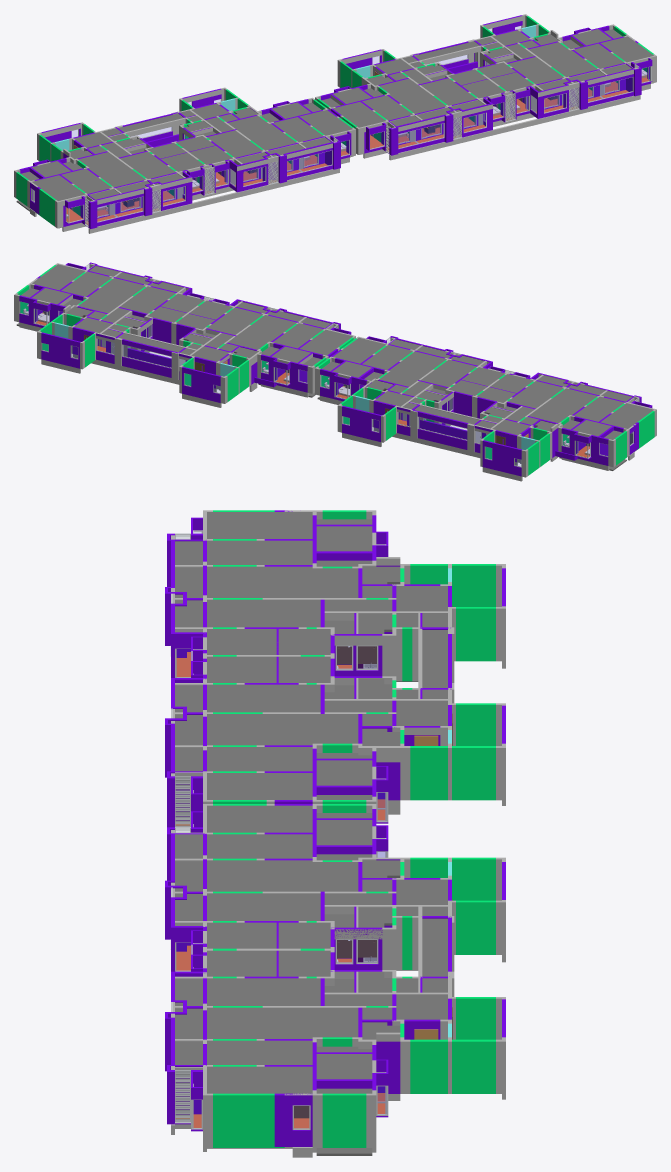
Rendered from standard-floor.meshopt.glb.
3 renders of one model, top to bottom at view 1: azimuth 30°, elevation 25°; view 2: azimuth 150°, elevation 25°; view 3: azimuth 270°, elevation 25°, orthographic. The views are drawn at different scales.
Parts seen in each view (by area): view 1: element_1310233, element_1309652, element_1311939, element_1312119, element_1312037, element_1311857, element_1312061, element_1312053, element_1311913, element_1311921, element_1311865, element_1311929 (+48 smaller); view 2: element_1311857, element_1312037, element_1312119, element_1311939, element_1553364, element_1602113, element_1557701, element_1602064, element_1312053, element_1312061, element_1311921, element_1311913 (+37 smaller); view 3: element_1312119, element_1311857, element_1311939, element_1312037, element_654879, element_1311921, element_1312053, element_1312061, element_1311865, element_1311929, element_1311913, element_1312045 (+33 smaller).
Part boxes in pixels (<box>): element_1310233: <box>389,95,640,160</box>; element_1309652: <box>88,168,339,233</box>; element_1311939: <box>228,115,296,150</box>; element_1312119: <box>528,42,597,76</box>; element_1312037: <box>379,78,446,113</box>; element_1311857: <box>78,152,145,187</box>; element_1312061: <box>477,62,533,91</box>; element_1312053: <box>448,69,505,98</box>; element_1311913: <box>147,143,204,171</box>; element_1311921: <box>176,136,232,164</box>; element_1311865: <box>120,151,175,178</box>; element_1311929: <box>207,130,262,157</box>; element_1311857: <box>529,388,597,423</box>; element_1312037: <box>228,315,296,349</box>; element_1312119: <box>78,278,145,313</box>; element_1311939: <box>379,351,446,386</box>; element_1553364: <box>482,440,521,476</box>; element_1602113: <box>182,367,221,402</box>; element_1557701: <box>342,406,381,441</box>; element_1602064: <box>41,332,80,368</box>; element_1312053: <box>176,300,232,329</box>; element_1312061: <box>147,293,204,322</box>; element_1311921: <box>448,367,505,395</box>; element_1311913: <box>477,374,533,402</box>; element_1312119: <box>207,1007,358,1038</box>; element_1311857: <box>207,566,358,597</box>; element_1311939: <box>207,714,358,745</box>; element_1312037: <box>207,860,358,891</box>; element_654879: <box>213,1093,284,1147</box>; element_1311921: <box>207,656,330,682</box>; element_1312053: <box>207,922,330,948</box>; element_1312061: <box>207,950,330,976</box>; element_1311865: <box>207,599,320,627</box>; element_1311929: <box>207,684,320,712</box>; element_1311913: <box>207,629,330,654</box>; element_1312045: <box>207,893,320,920</box>.
Bounding box in the file's own units: 69.45 × 4.1 × 17.1.
